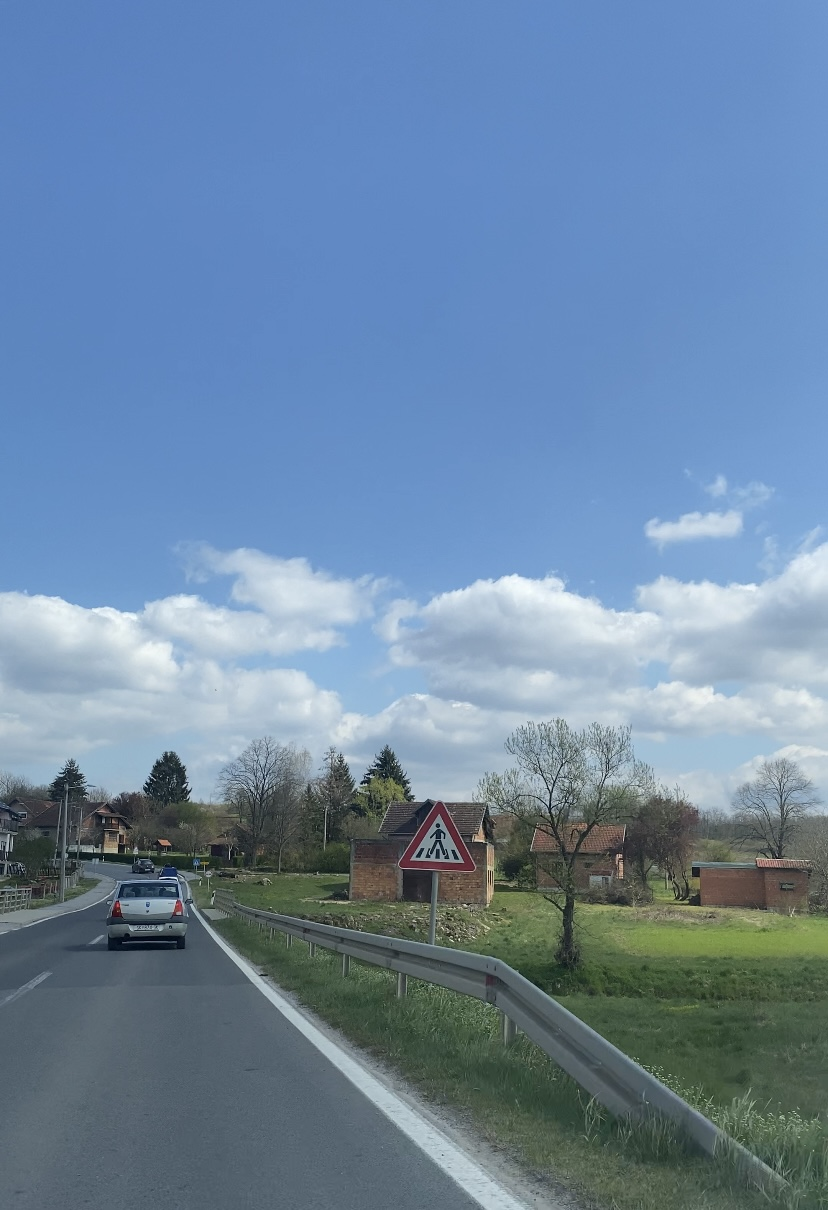Približavanje pješačkom prijelazu: (397, 799, 477, 873)
